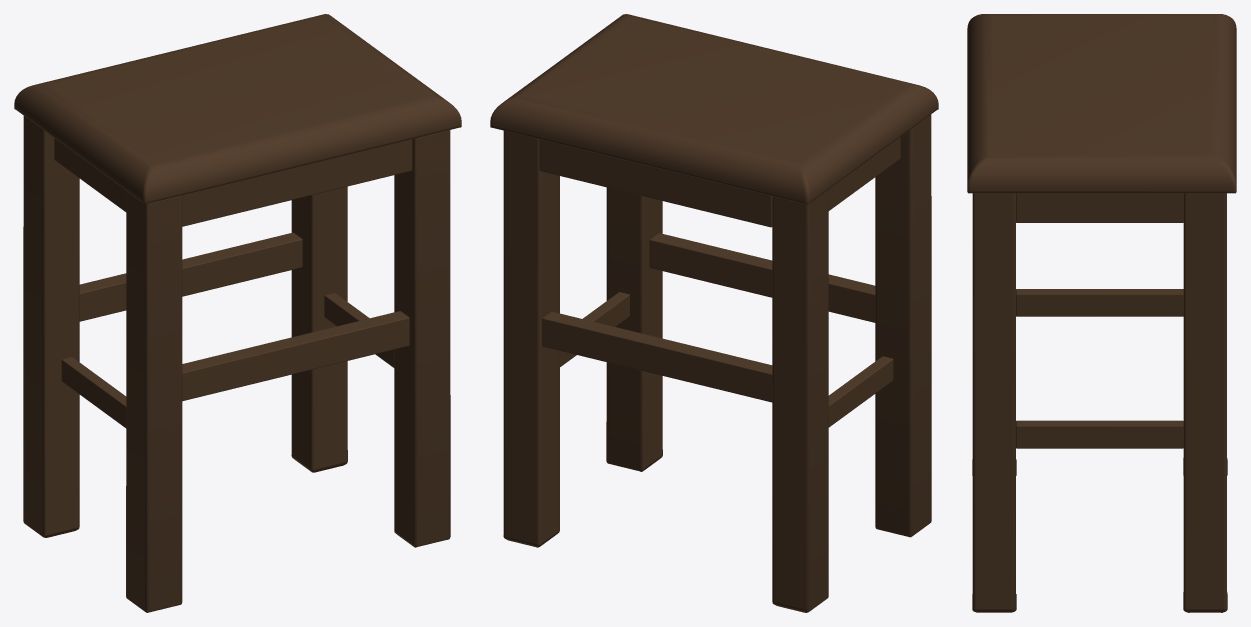
The model's file is chair.fbx.
3 renders of one model, left to right at view 1: azimuth 30°, elevation 25°; view 2: azimuth 150°, elevation 25°; view 3: azimuth 270°, elevation 25°, orthographic. The views are drawn at different scales.
Parts seen in each view (by area): view 1: WoodChair_Baked; view 2: WoodChair_Baked; view 3: WoodChair_Baked.
Boxes of the visible parts, <box> form: WoodChair_Baked: <box>14,14,461,612</box>; WoodChair_Baked: <box>490,14,938,612</box>; WoodChair_Baked: <box>967,14,1236,612</box>.
Size of the model in its own units: 35 by 46.46 by 25.
